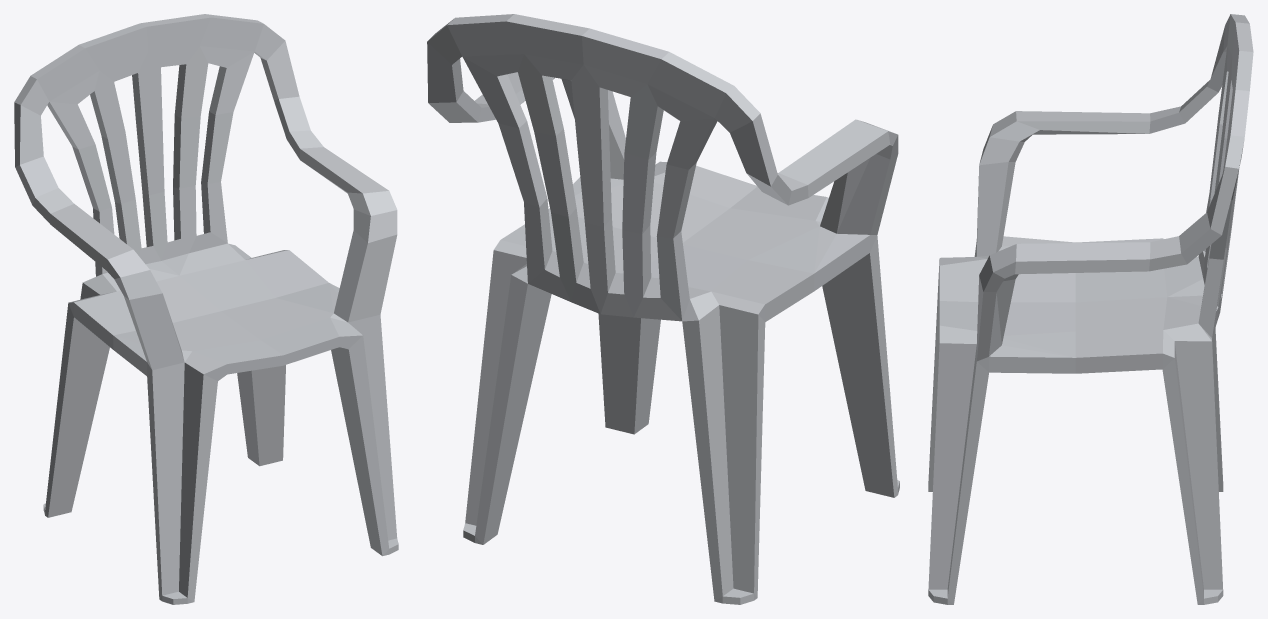
File: SM_Prop_Chair_05.fbx
The picture shows the model from 3 angles, left to right: view 1: azimuth 30°, elevation 25°; view 2: azimuth 150°, elevation 25°; view 3: azimuth 270°, elevation 25°; orthographic projection. The views are drawn at different scales.
Visible parts, largest first — view 1: SM_Prop_Chair_05; view 2: SM_Prop_Chair_05; view 3: SM_Prop_Chair_05.
Boxes of the visible parts, box(x1,y1,x2,y2) form: SM_Prop_Chair_05: box(14, 14, 398, 604); SM_Prop_Chair_05: box(427, 14, 899, 604); SM_Prop_Chair_05: box(928, 14, 1253, 604).
Size of the model in its own units: 66.54 by 100 by 60.19.
